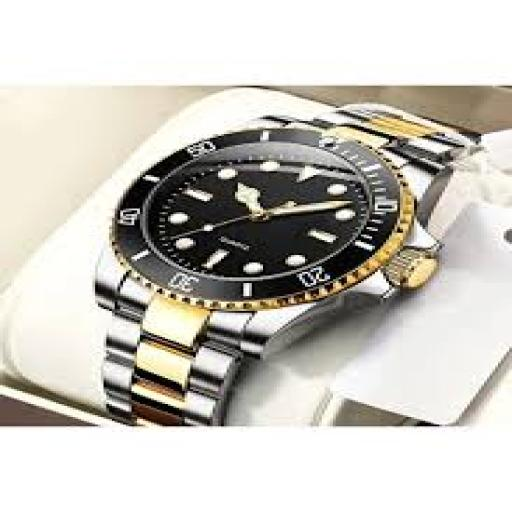KolSaati: (56, 91, 508, 425)
